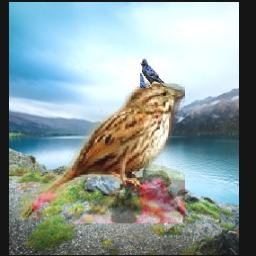Crow: (141, 58, 165, 88)
Sparrow: (16, 79, 186, 224)
